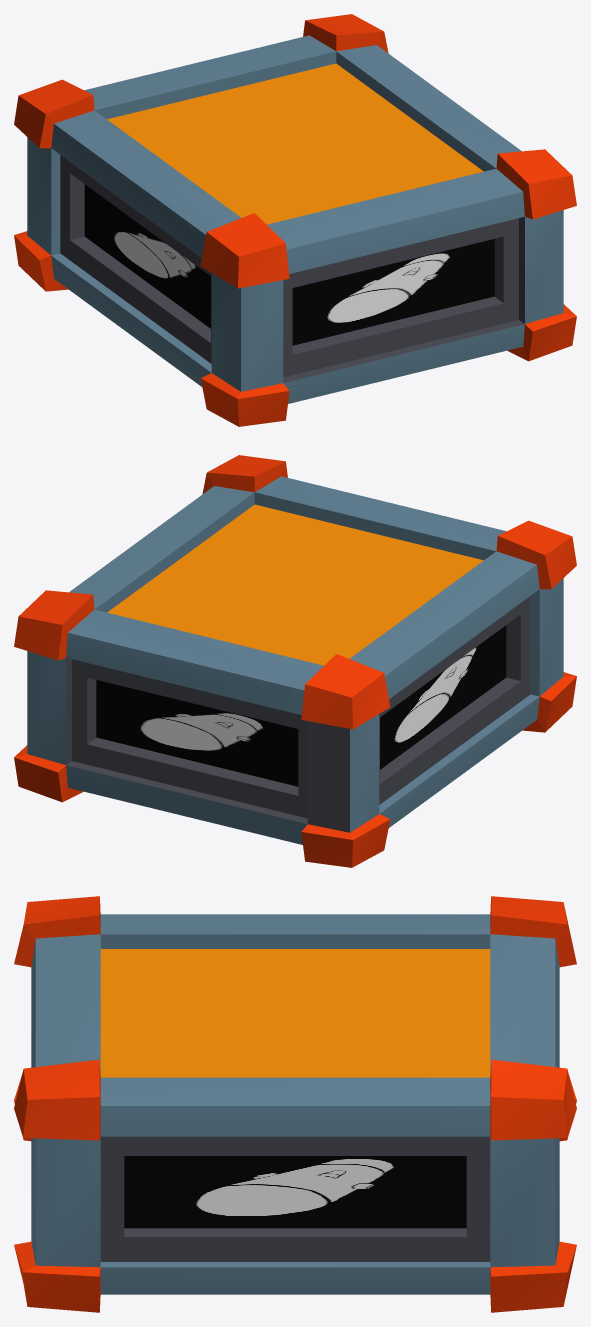
Rendered from homing_missile.obj.
3 renders of one model, top to bottom at view 1: azimuth 30°, elevation 25°; view 2: azimuth 150°, elevation 25°; view 3: azimuth 270°, elevation 25°, orthographic. The views are drawn at different scales.
Visible parts, largest first — view 1: Box001, Object003, Object004, Object001, Object002; view 2: Box001, Object003, Object004, Object001, Object002; view 3: Box001, Object003, Object001, Object002, Object004.
Boxes of the visible parts, <box> form: Box001: <box>27,35,563,403</box>; Object003: <box>107,63,483,224</box>; Object004: <box>60,155,524,382</box>; Object001: <box>14,14,576,426</box>; Object002: <box>84,184,494,345</box>; Box001: <box>27,476,563,844</box>; Object003: <box>107,504,483,665</box>; Object004: <box>66,596,530,832</box>; Object001: <box>14,455,576,867</box>; Object002: <box>96,625,506,786</box>; Box001: <box>31,914,559,1294</box>; Object003: <box>100,949,490,1077</box>; Object001: <box>14,896,576,1312</box>; Object002: <box>124,1156,466,1228</box>; Object004: <box>100,1136,490,1261</box>.
Size of the model in its own units: 84.92 by 44.52 by 97.02.
Materials: 5 (1 with a texture image).
